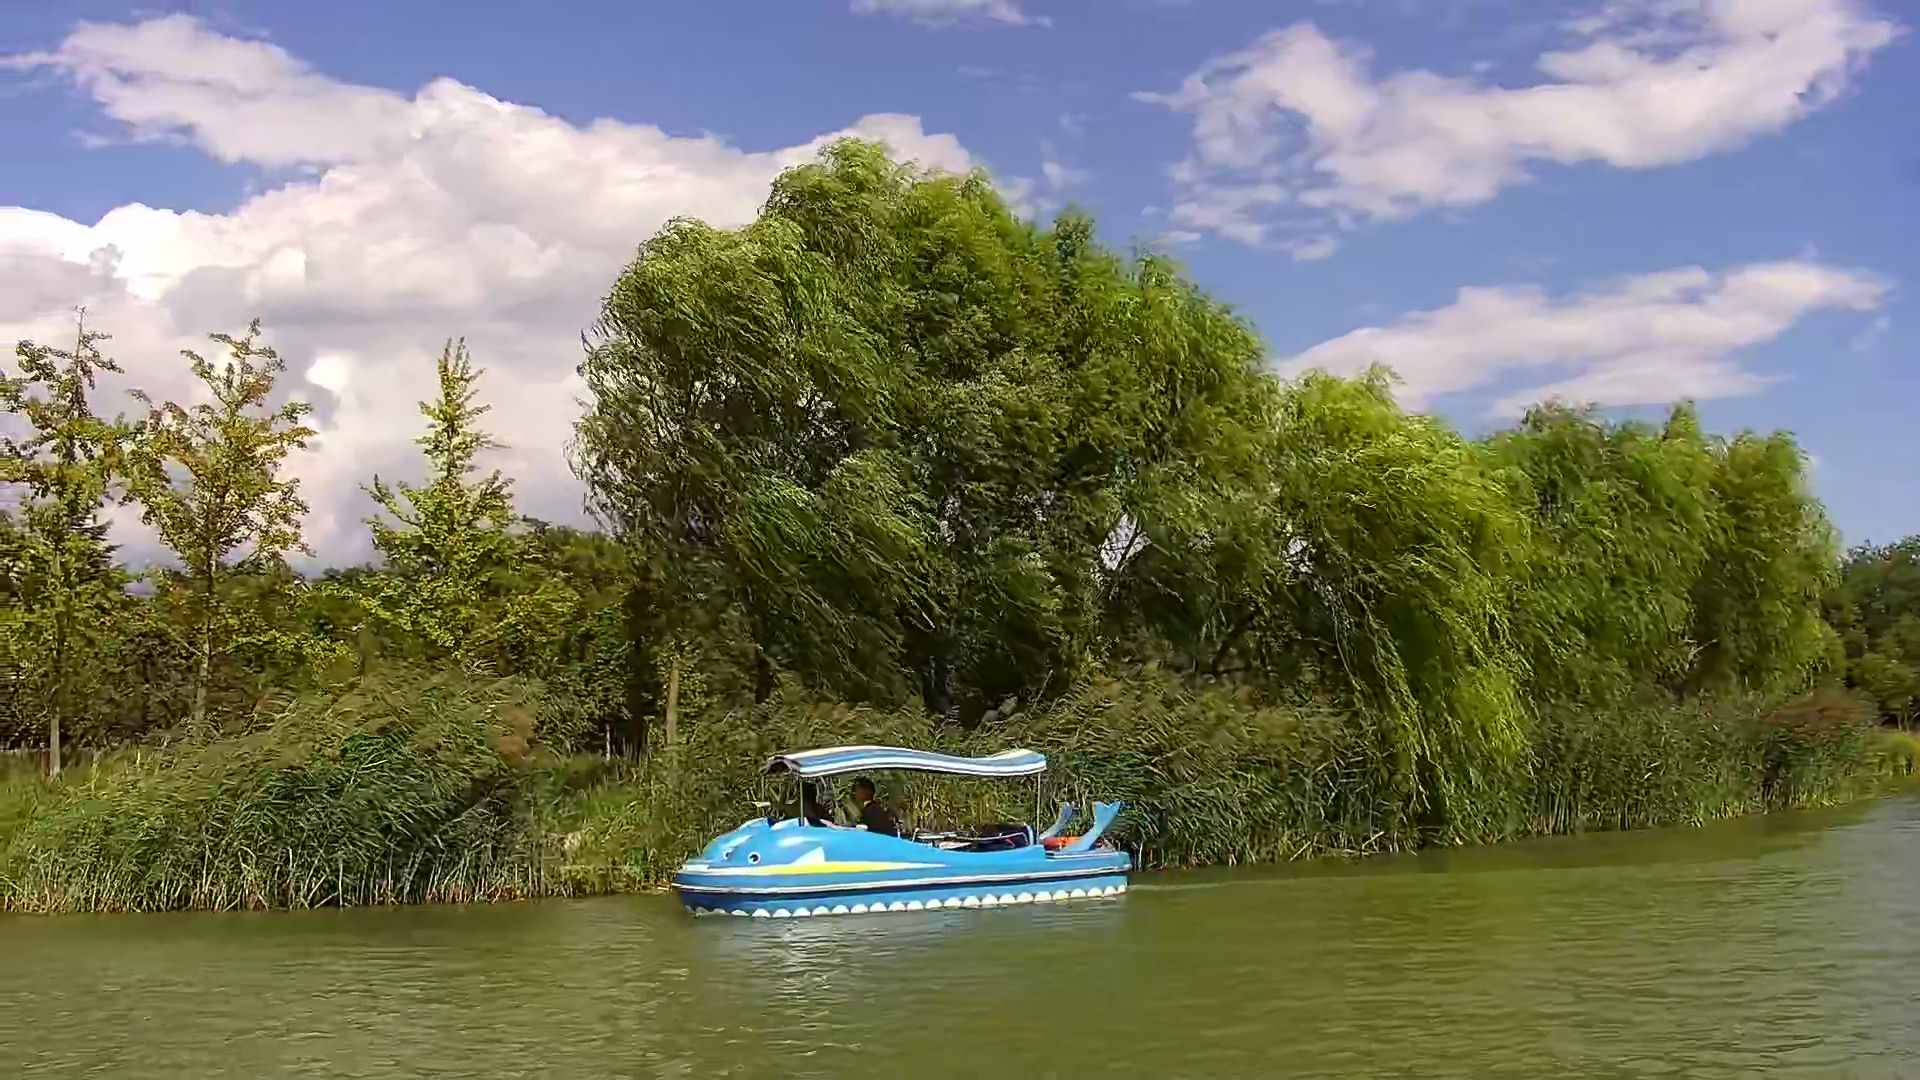boat: (668, 753, 1130, 918)
person: (835, 777, 900, 839)
